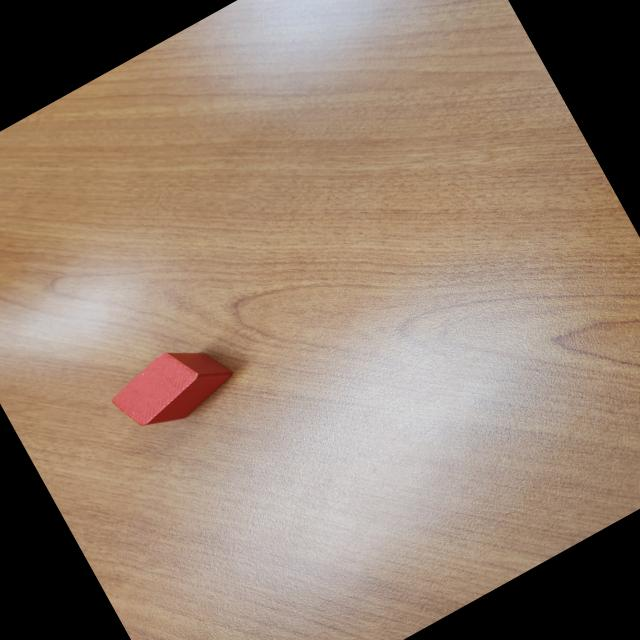red: (105, 328, 242, 444)
